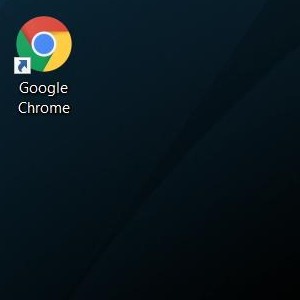chrome: (13, 16, 73, 74)
